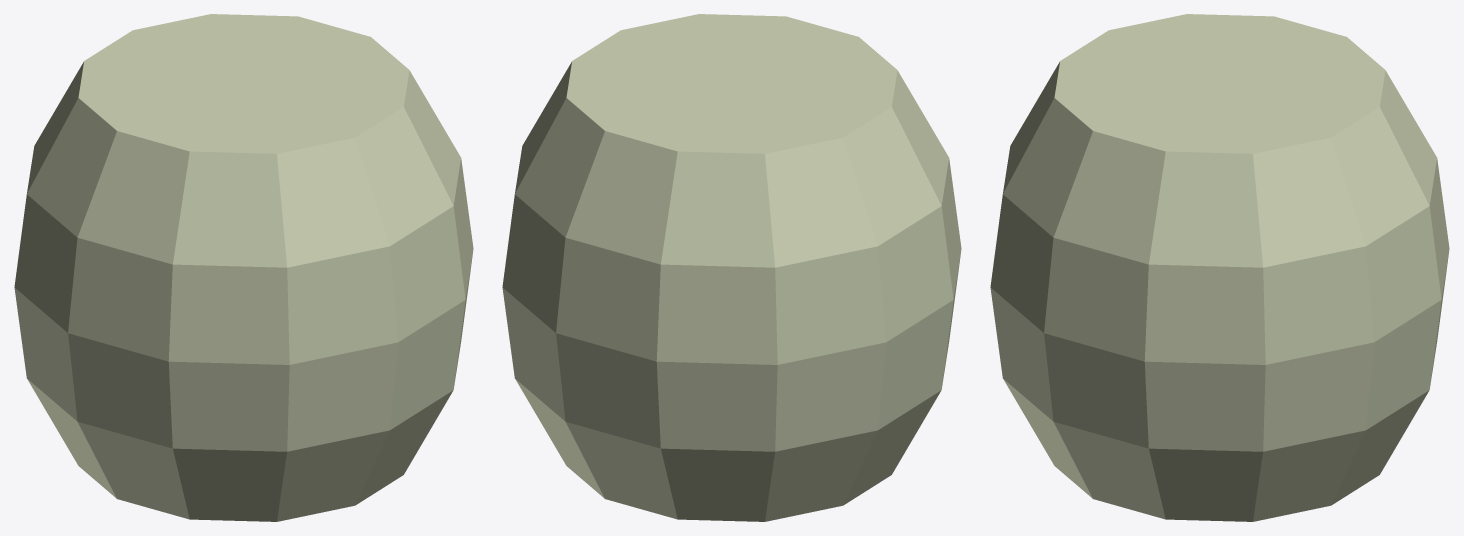
File: hamal_orbital_module_s1_1_collider.obj
3 renders of one model, left to right at view 1: azimuth 30°, elevation 25°; view 2: azimuth 150°, elevation 25°; view 3: azimuth 270°, elevation 25°, orthographic.
Parts seen in each view (by area): view 1: collider; view 2: collider; view 3: collider.
Boxes of the visible parts, box(x1,y1,x2,y2) form: collider: box(14, 14, 473, 521); collider: box(502, 14, 961, 521); collider: box(990, 14, 1449, 521).
Bounding box in the file's own units: 1.3 × 1.15 × 1.3.
